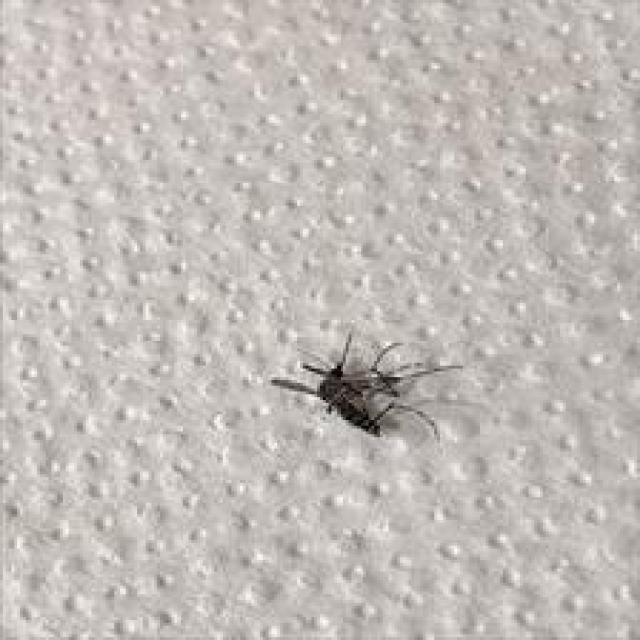Aedes albopictus: (268, 328, 463, 448)
